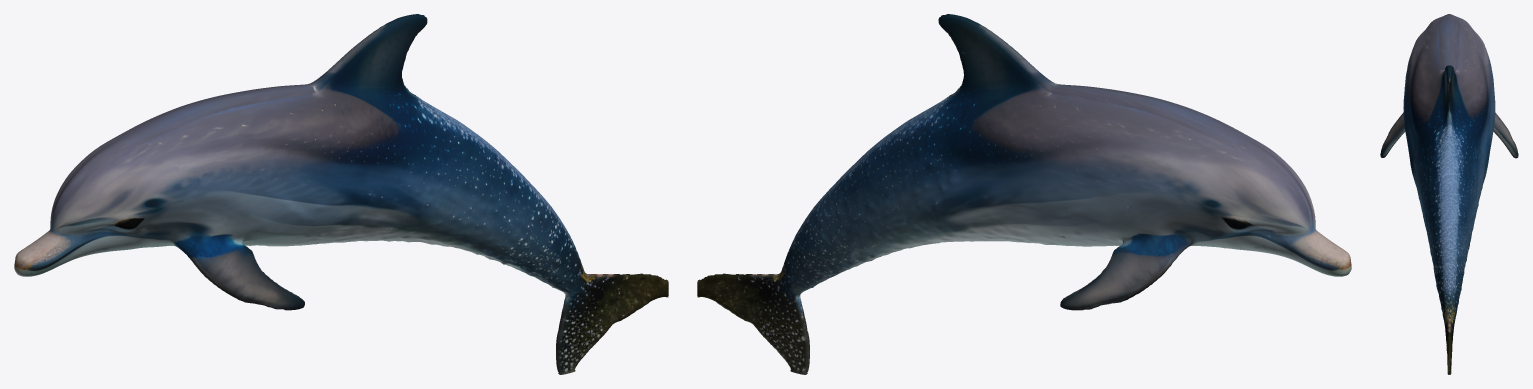
File: NodePreview_20260426_191437.glb
3 views of the same model, side by side, from view 1: azimuth 30°, elevation 25°; view 2: azimuth 150°, elevation 25°; view 3: azimuth 270°, elevation 25° (orthographic). The views are drawn at different scales.
Visible parts, largest first — view 1: material; view 2: material; view 3: material.
Part boxes in pixels (bbox=[...]): material: bbox=[14, 14, 668, 374]; material: bbox=[697, 14, 1351, 374]; material: bbox=[1380, 14, 1518, 374].
Size of the model in its own units: 1.11 by 0.644 by 0.3189.
Materials: 1 (1 with a texture image).
